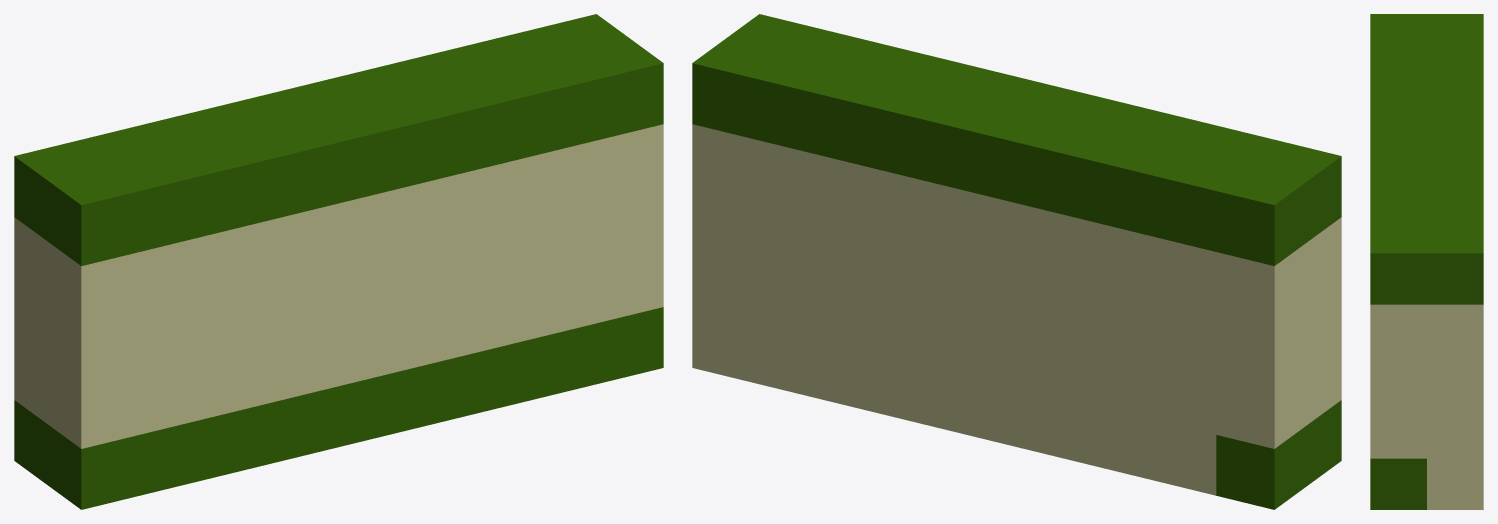
File: Bank-9.obj
3 views of the same model, side by side, from view 1: azimuth 30°, elevation 25°; view 2: azimuth 150°, elevation 25°; view 3: azimuth 270°, elevation 25° (orthographic). The views are drawn at different scales.
Parts seen in each view (by area): view 1: Bank-9; view 2: Bank-9; view 3: Bank-9.
Part boxes in pixels (<box>): Bank-9: <box>14,14,663,509</box>; Bank-9: <box>692,14,1341,509</box>; Bank-9: <box>1370,14,1483,509</box>.
Bounding box in the file's own units: 10 × 5 × 2.
1 material, 1 textured.
